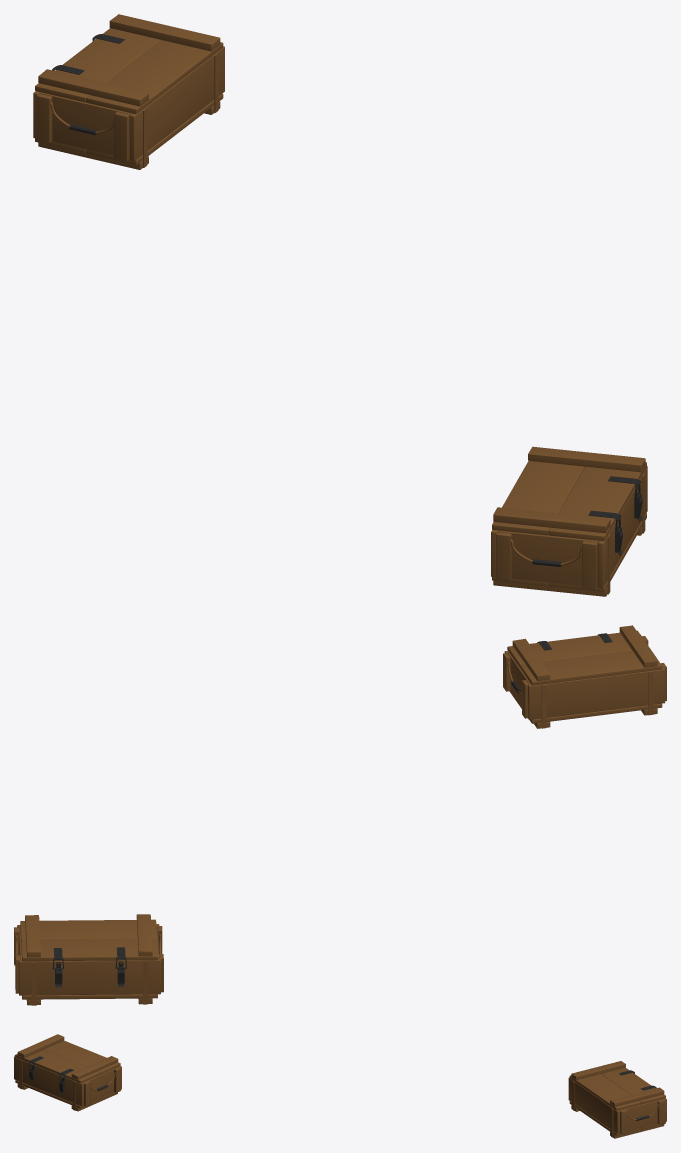
Rendered from dead_box__001.fbx.
3 views of the same model, one above another, from view 1: azimuth 30°, elevation 25°; view 2: azimuth 150°, elevation 25°; view 3: azimuth 270°, elevation 25° (orthographic). The views are drawn at different scales.
Parts seen in each view (by area): view 1: dead box; view 2: dead box; view 3: dead box.
Part boxes in pixels (left/top/right/bottom): dead box: left=33, top=14, right=647, bottom=596; dead box: left=14, top=625, right=666, bottom=1005; dead box: left=14, top=1034, right=666, bottom=1138.
Bounding box in the file's own units: 2.55 × 0.5792 × 9.66.
